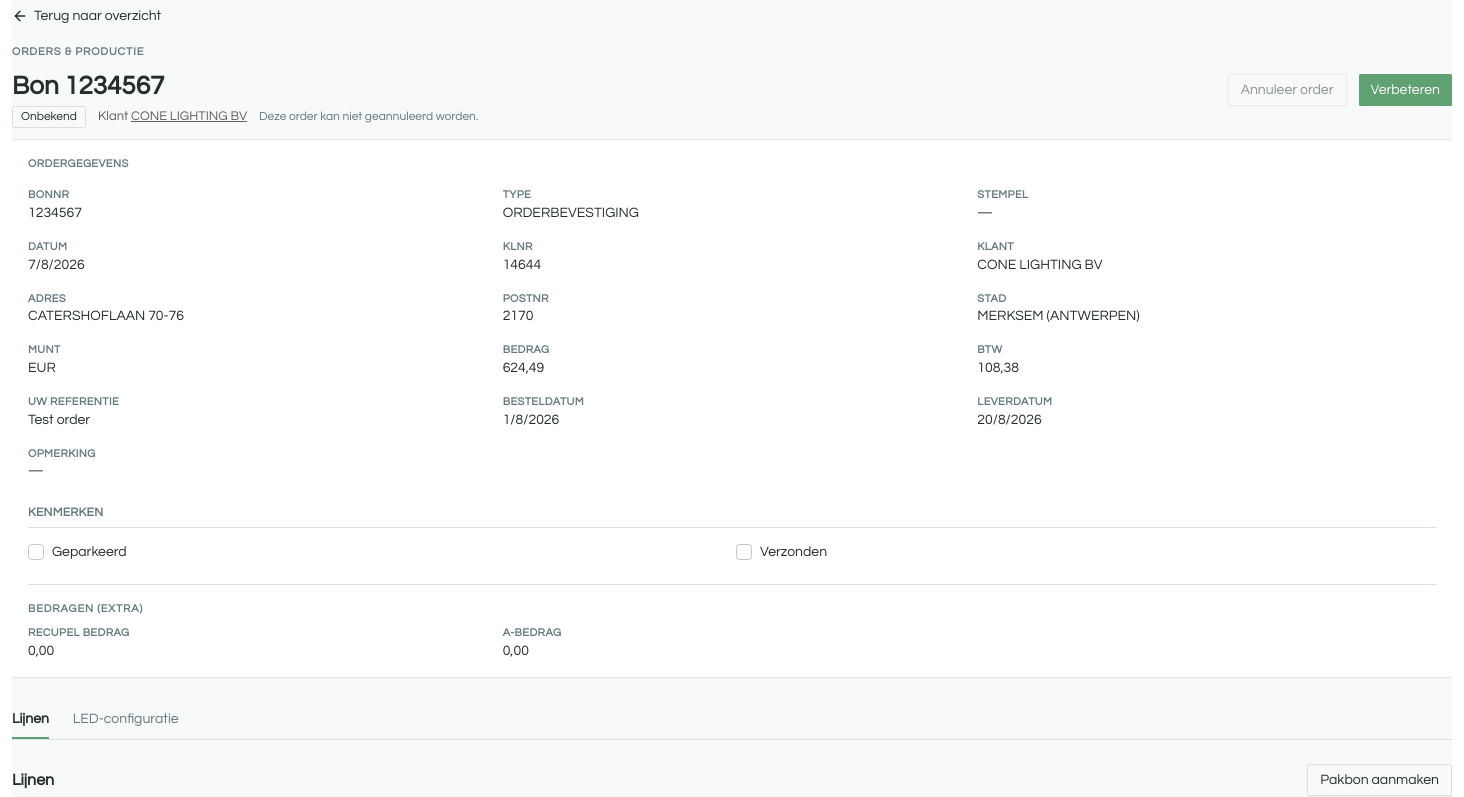
Test: BonDetailPage › shows a dirty indicator in the header while editing with unsaved changes, and not before editing or when unchanged
The width and height of the screenshot is (1464, 797).
expect the text "Niet-bewaarde wijzigingen" is not shown: met
Step 1. Click the button "Verbeteren" → point(1405, 90), box [1358,74,1452,106]
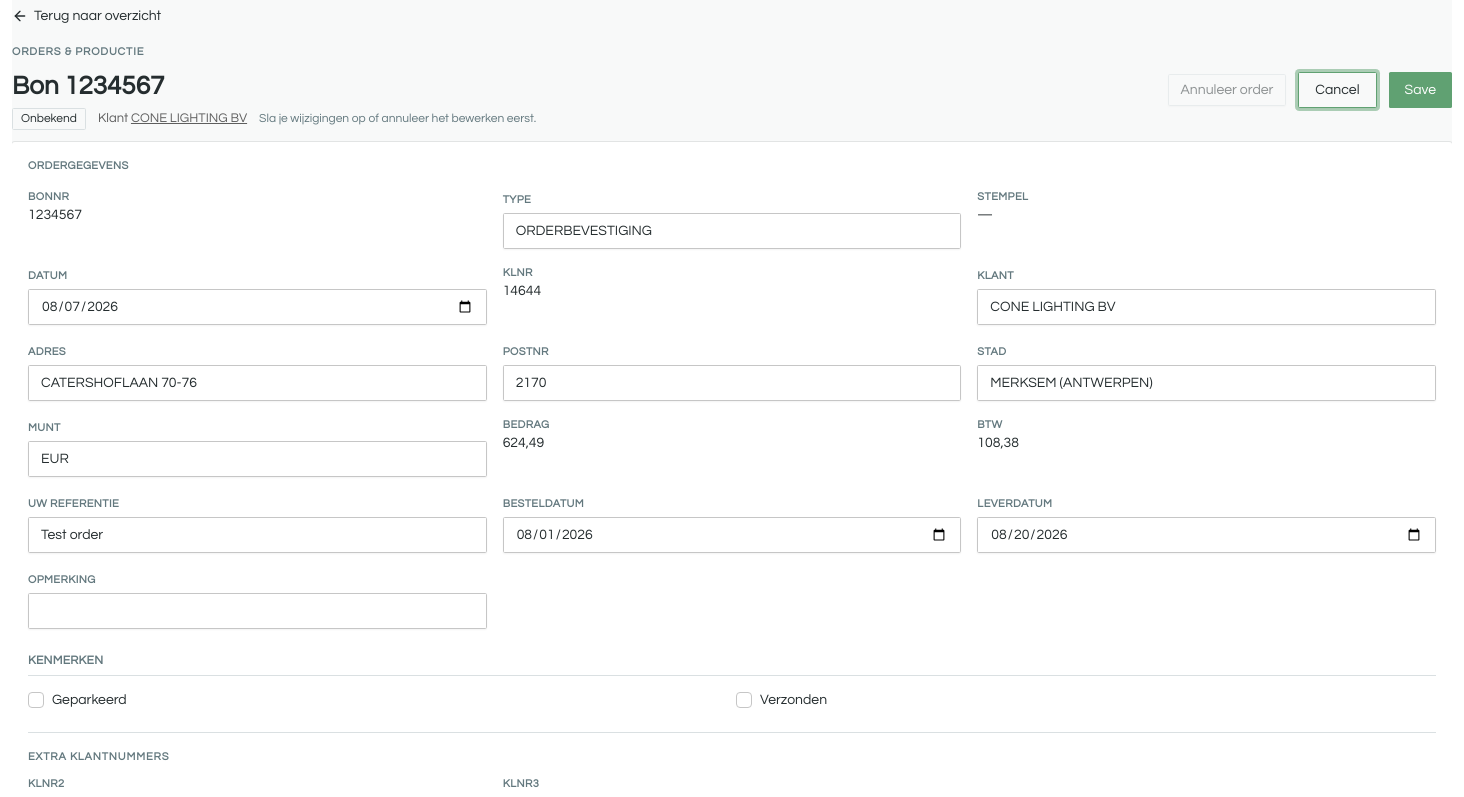
expect the text "Niet-bewaarde wijzigingen" is not shown: met
Step 2. Type "!" into the field labelled "Klant" → point(1207, 307), box [977,289,1436,325]
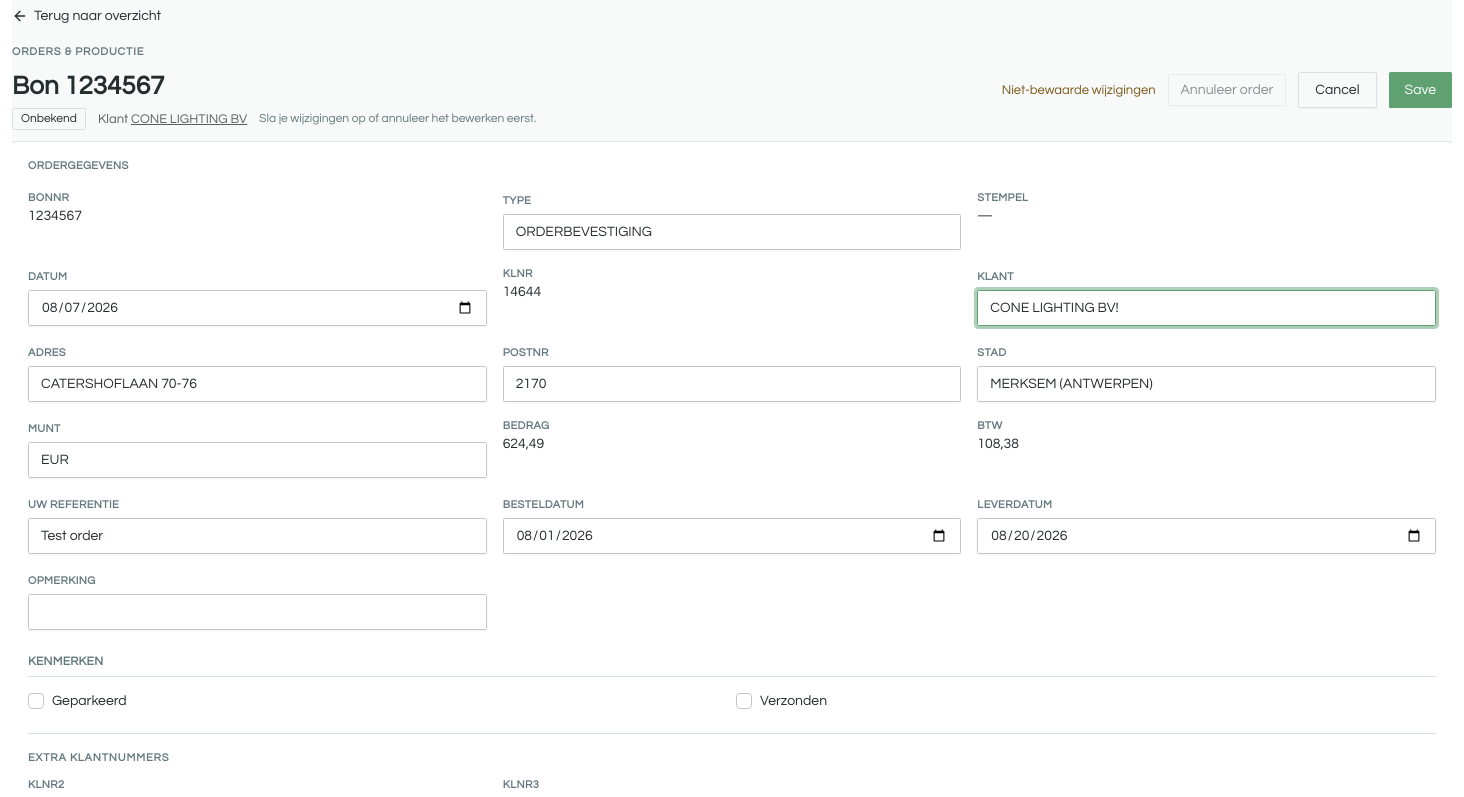
expect the text "Niet-bewaarde wijzigingen" is shown: met, box [1002,80,1156,100]
